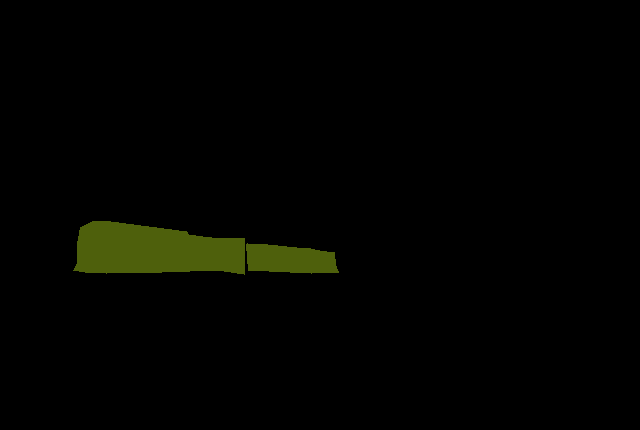Train: (73, 221, 338, 275)
